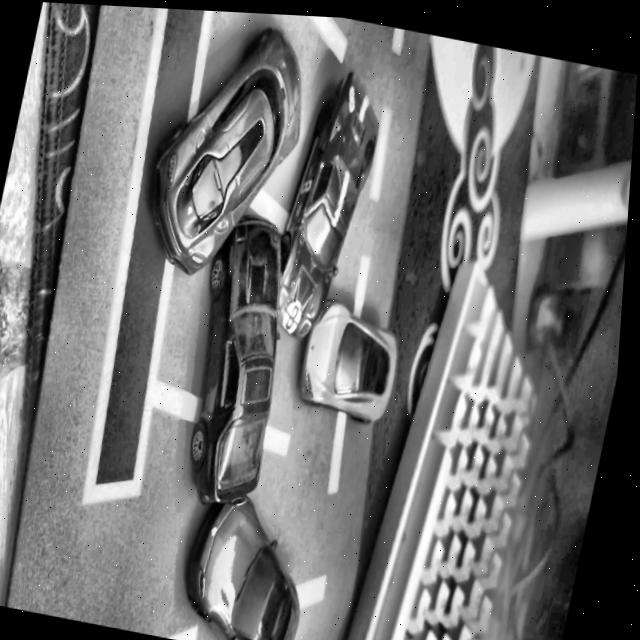car: (136, 6, 322, 289), (168, 201, 316, 513), (265, 58, 392, 345), (179, 483, 330, 640), (296, 290, 413, 423)
